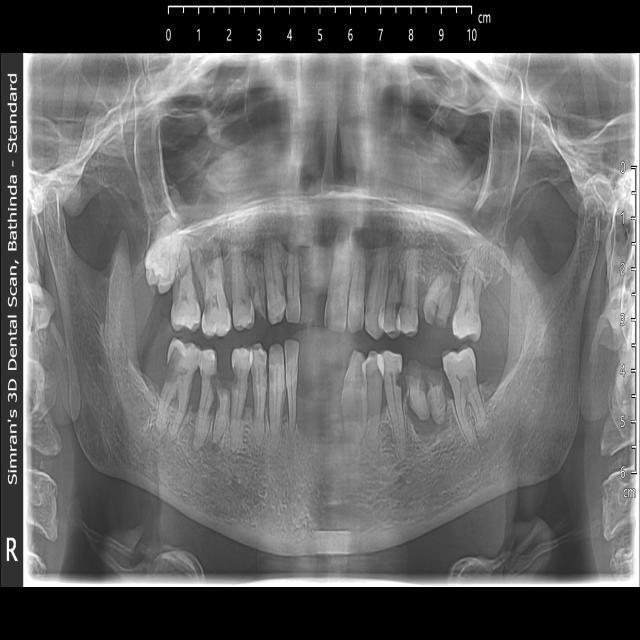Caries: (212, 350, 231, 445), (201, 282, 230, 337), (173, 281, 199, 327), (379, 302, 401, 340), (233, 347, 252, 390), (198, 371, 215, 414), (398, 297, 416, 330), (166, 348, 178, 382)
Missing teeth: (300, 351, 345, 449), (302, 249, 327, 314)
Periapical lesion: (408, 409, 450, 441), (210, 433, 223, 459), (395, 372, 404, 391)
Root Piece: (407, 362, 445, 431), (422, 275, 453, 328)
